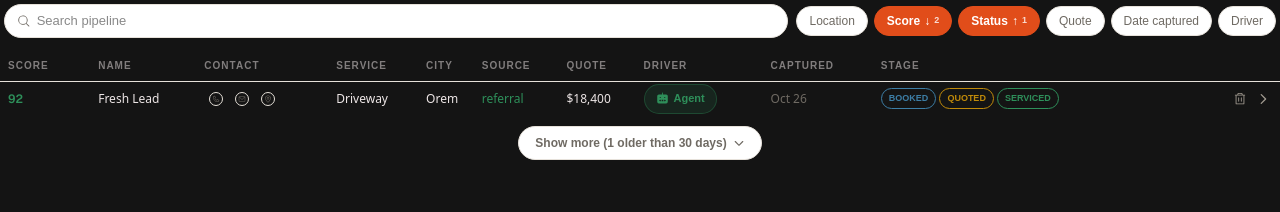
Test case: LeadsTable 30-day window › reveals the older leads when Show more is pressed
The image size is (1280, 212).
Click the button with test id "toggle-older-leads".
click(640, 142)  # box [518,126,762,160]
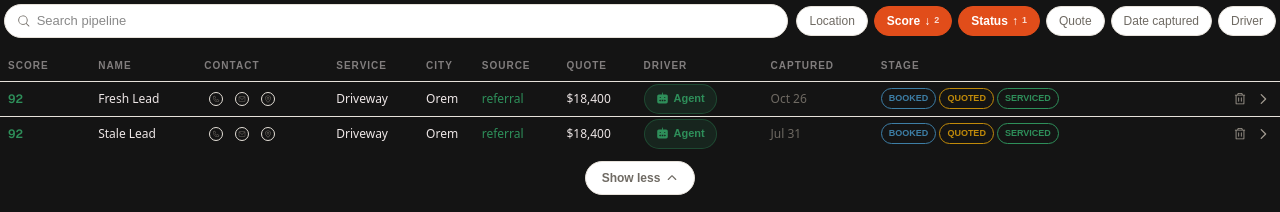
Expected: the row with test id "lead-row-stale" is shown, [0,116,1279,150]
Expected: the button with test id "toggle-older-leads" reads "Show less", [585,160,695,194]
